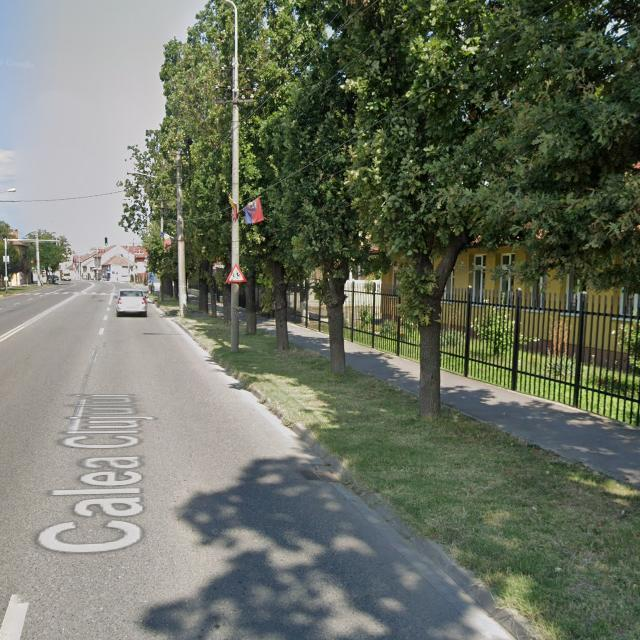warn_children: (226, 264, 247, 282)
